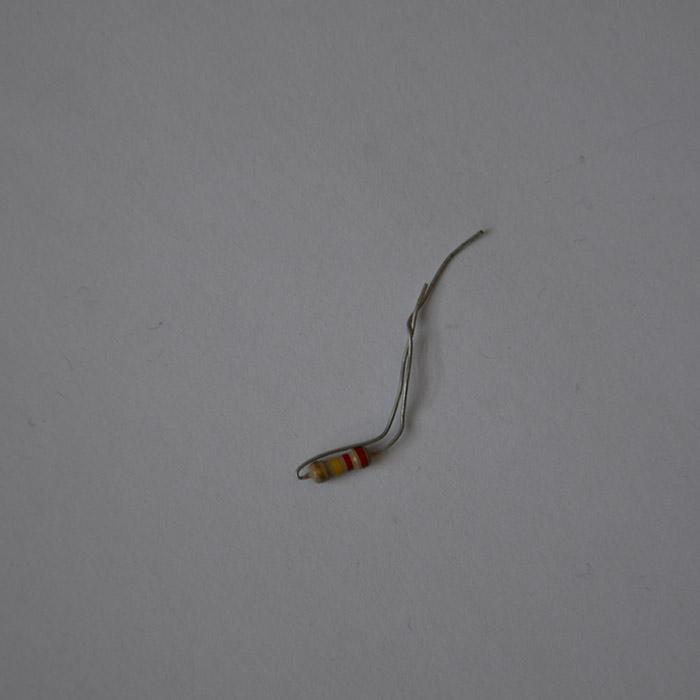resistor: (303, 444, 372, 483)
